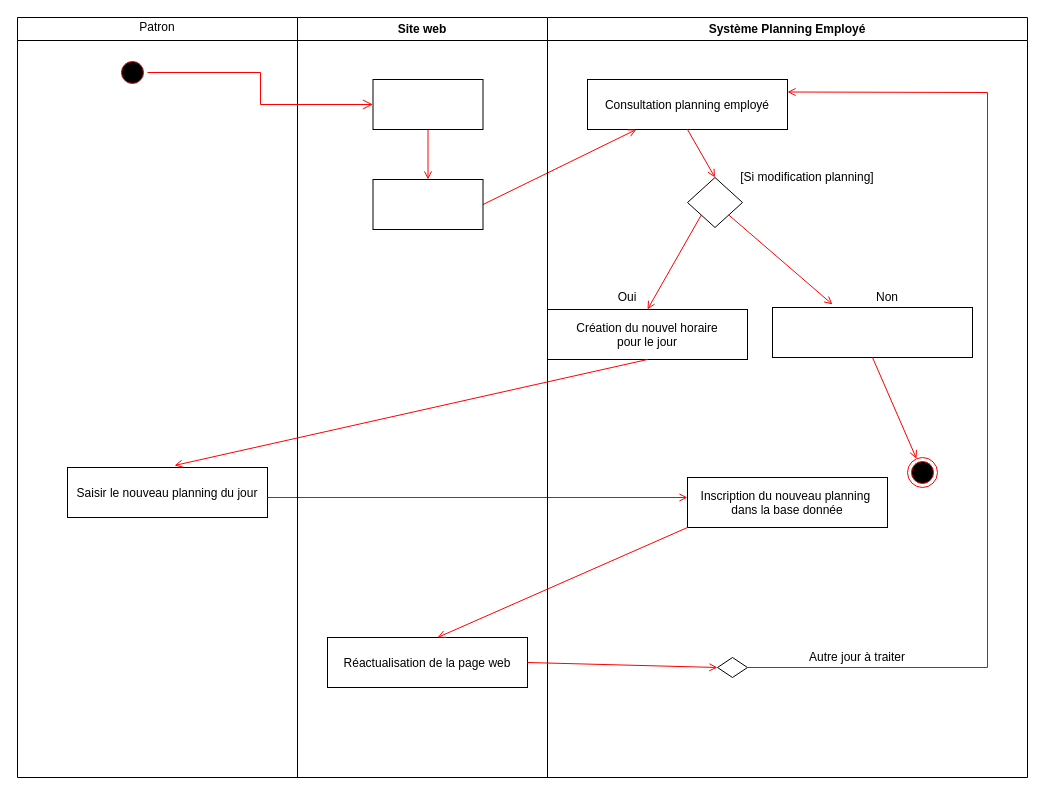
Image size: 1045x795. Some labels were removed from this diagram. Each missing label, with the box of its shape:
Authentification site web: (372, 78, 483, 130)
Ne rien faire: (772, 306, 972, 358)
Site web avec accès Patron: (372, 178, 483, 230)
